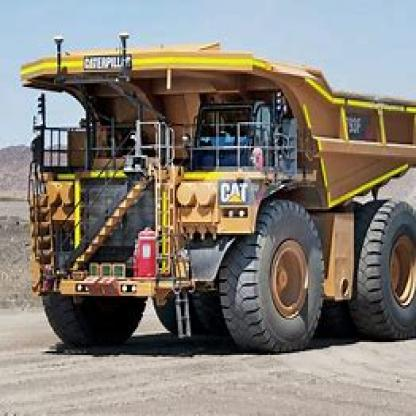dump_truck: (22, 41, 414, 346)
